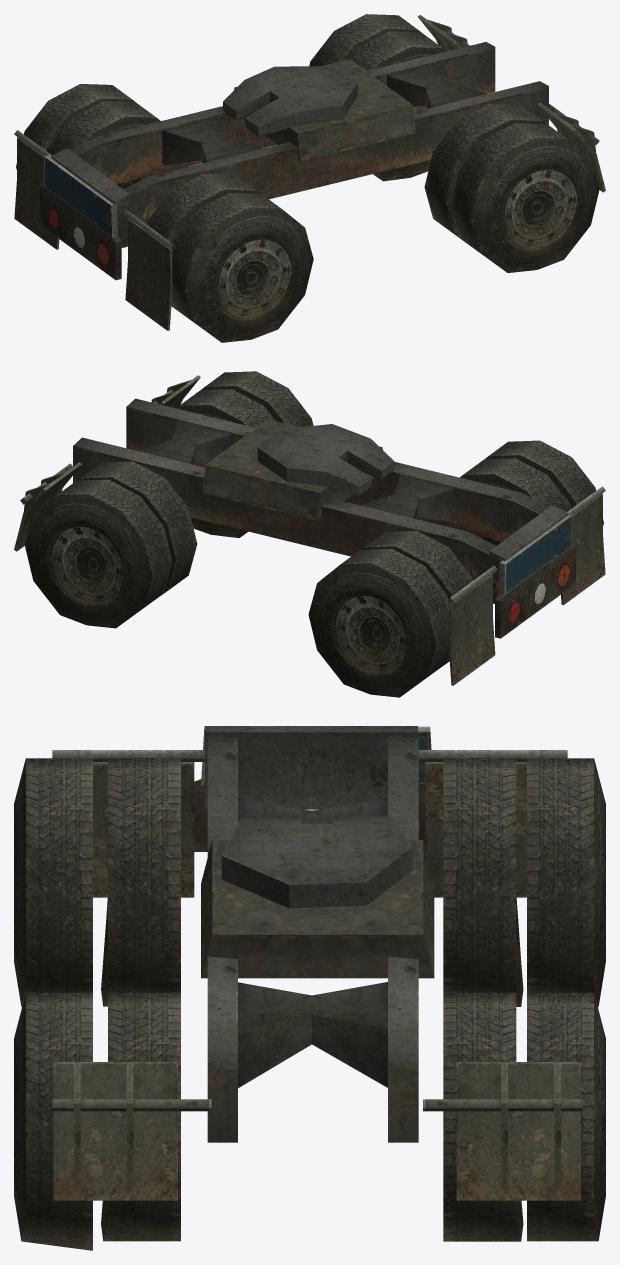
Rendered from Cover_Truck02a.glb.
3 renders of one model, top to bottom at view 1: azimuth 30°, elevation 25°; view 2: azimuth 150°, elevation 25°; view 3: azimuth 270°, elevation 25°, orthographic. The views are drawn at different scales.
Parts seen in each view (by area): view 1: xiutz_truck_02a; view 2: xiutz_truck_02a; view 3: xiutz_truck_02a.
Part boxes in pixels (left/top/right/bottom): xiutz_truck_02a: left=14, top=14, right=605, bottom=342; xiutz_truck_02a: left=14, top=371, right=605, bottom=697; xiutz_truck_02a: left=14, top=726, right=605, bottom=1250.
Bounding box in the file's own units: 6.64 × 2.2 × 4.5.
Materials: 1 (1 with a texture image).
